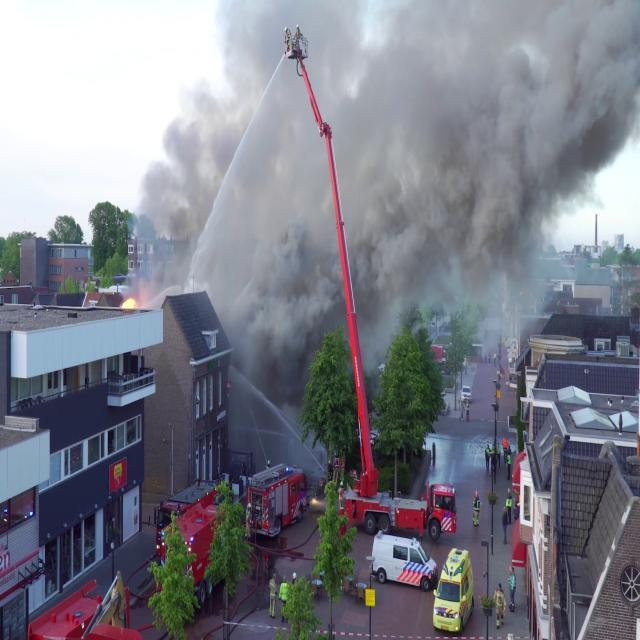Fire: (118, 289, 142, 313)
Smoke: (142, 0, 639, 335)
